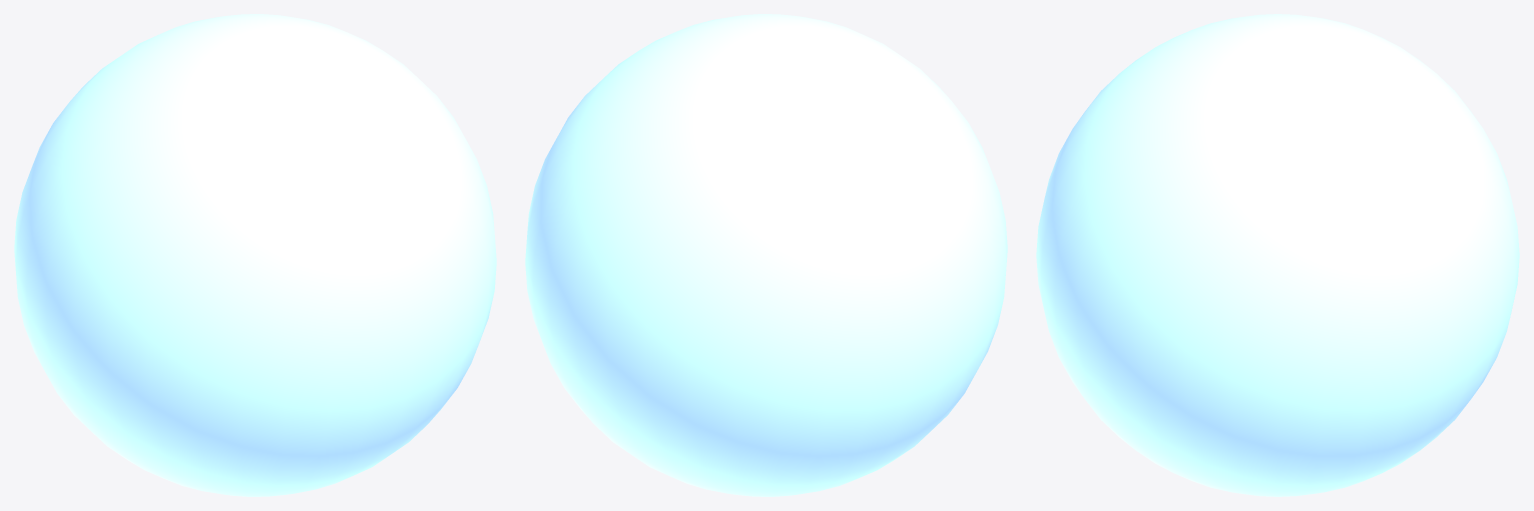
File: force_field.glb
3 renders of one model, left to right at view 1: azimuth 30°, elevation 25°; view 2: azimuth 150°, elevation 25°; view 3: azimuth 270°, elevation 25°, orthographic.
Visible parts, largest first — view 1: ForceField; view 2: ForceField; view 3: ForceField.
Boxes of the visible parts, <box> form: ForceField: <box>14,14,496,496</box>; ForceField: <box>525,14,1007,496</box>; ForceField: <box>1036,14,1519,496</box>.
Size of the model in its own units: 10 by 10 by 10.
